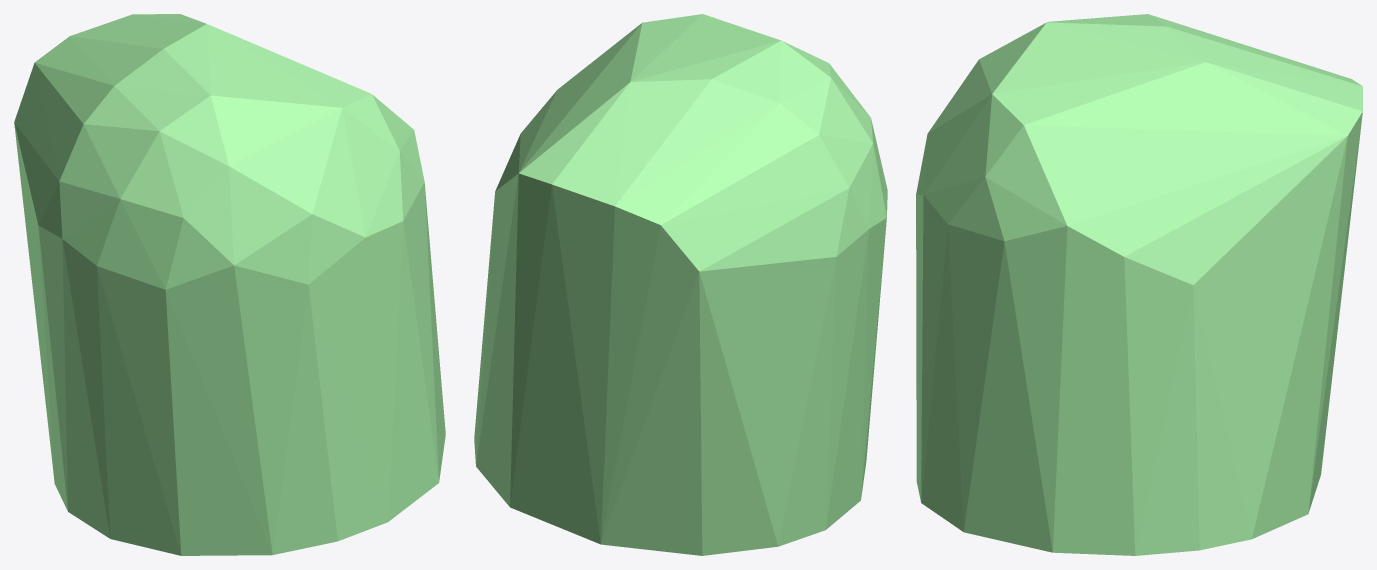
File: dualpanda_Panda_leftArm_link5_respondable_coll_1.dae
3 renders of one model, left to right at view 1: azimuth 30°, elevation 25°; view 2: azimuth 150°, elevation 25°; view 3: azimuth 270°, elevation 25°, orthographic. The views are drawn at different scales.
Parts seen in each view (by area): view 1: node; view 2: node; view 3: node.
Part boxes in pixels (box(x1,y1,x2,y2)): node: box(14, 14, 445, 555); node: box(474, 14, 887, 555); node: box(916, 14, 1362, 555).
Bounding box in the file's own units: 0.1022 × 0.1157 × 0.1057.
